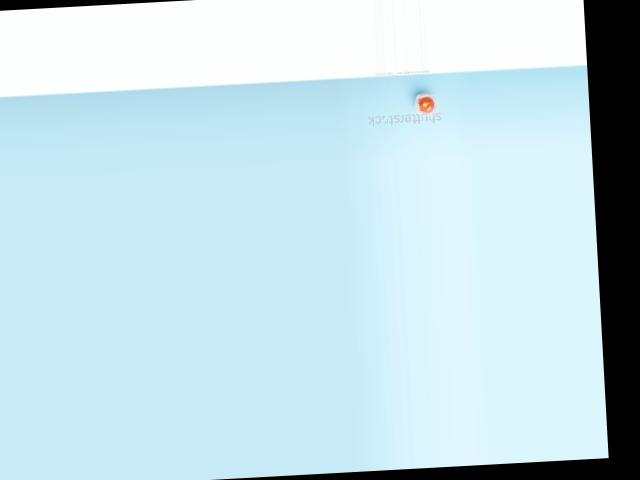tomato: (417, 96, 433, 113)
